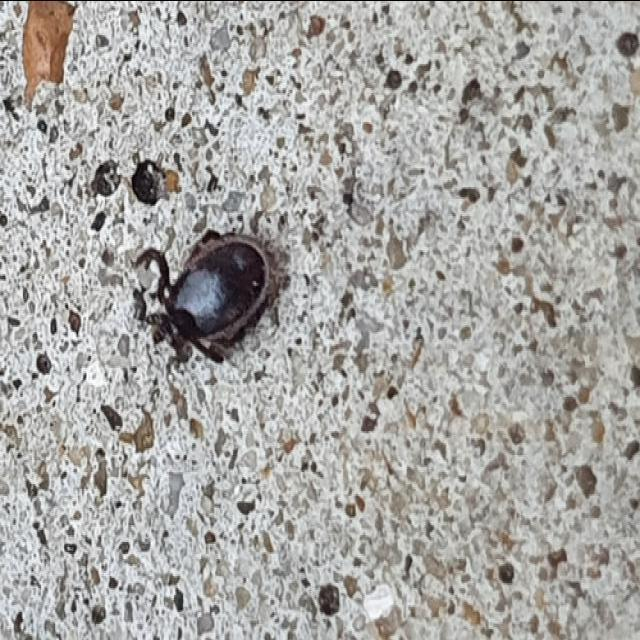Ixodes Ricinus-M: (141, 230, 287, 364)
